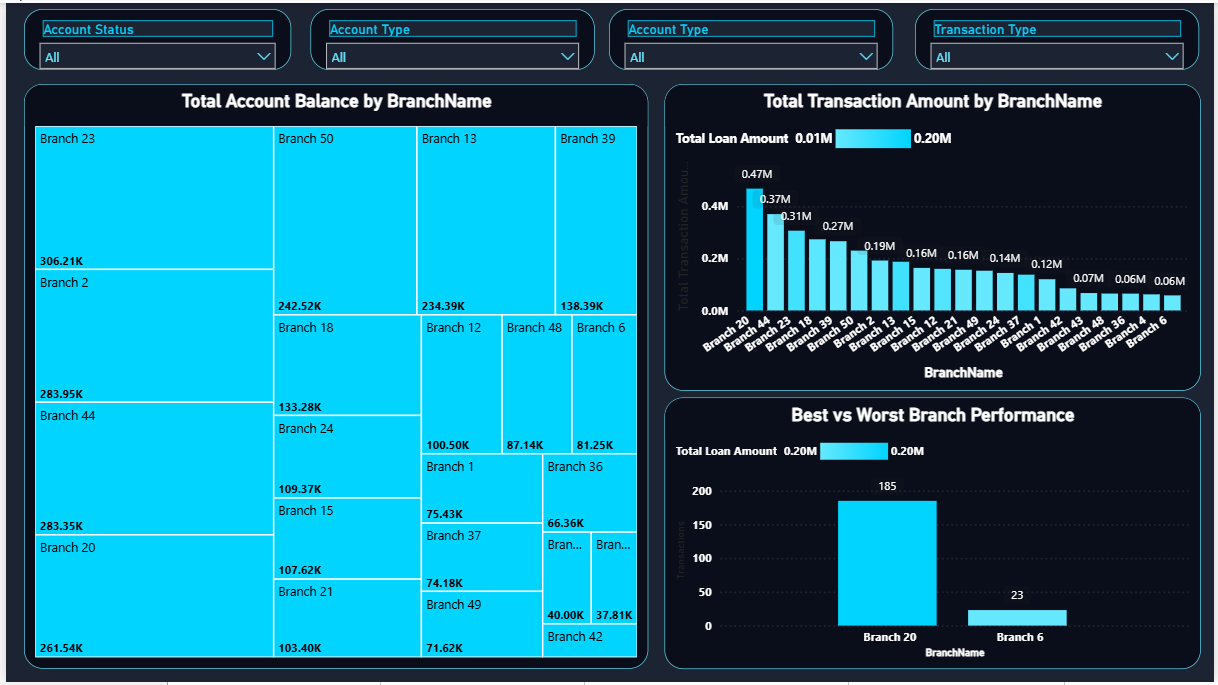

What the dashboard file says about the page in this screenshot:
{"tool":"powerbi","page":{"name":"Branch Performace","canvas":[1280,720],"ordinal":3},"visuals":[{"type":"columnChart","fields":{"Category":["enterpricebankinganalyticsdb branches.BranchName"],"Y":["enterpricebankinganalyticsdb transactions.Total Transaction Amount"]},"box":[697.9,85.8,568.3,325.5],"z":0},{"type":"columnChart","title":"Best vs Worst Branch Performance","fields":{"Category":["enterpricebankinganalyticsdb branches.BranchName"],"Y":["enterpricebankinganalyticsdb transactions.Transactions"]},"box":[697.9,417.8,568.3,288.2],"z":1000},{"type":"treemap","fields":{"Group":["enterpricebankinganalyticsdb branches.BranchName"],"Values":["enterpricebankinganalyticsdb accounts.Total Account Balance"]},"box":[19.4,85.8,662.3,620.2],"z":2000},{"type":"slicer","fields":{"Values":["enterpricebankinganalyticsdb account_statuses.StatusName"]},"box":[19.4,6.5,283.4,64.8],"z":2001},{"type":"slicer","fields":{"Values":["enterpricebankinganalyticsdb account_types.TypeName"]},"box":[322.2,6.5,301.6,64.8],"z":2002},{"type":"slicer","fields":{"Values":["enterpricebankinganalyticsdb account_types.TypeName"]},"box":[639.6,6.5,301.6,64.8],"z":2003},{"type":"slicer","fields":{"Values":["enterpricebankinganalyticsdb transaction_types.TypeName"]},"box":[963.4,6.5,301.6,64.8],"z":2004}]}

Visuals, with their boxes in screenshot pixels (x1, y1, x2, y2), scaled from the page's 1280x720 canvas onto the 1218x685 screenshot:
columnChart - enterpricebankinganalyticsdb branches.BranchName x enterpricebankinganalyticsdb transactions.Total Transaction Amount: bbox=[664, 82, 1205, 391]
"Best vs Worst Branch Performance" columnChart: bbox=[664, 397, 1205, 672]
treemap - enterpricebankinganalyticsdb branches.BranchName x enterpricebankinganalyticsdb accounts.Total Account Balance: bbox=[18, 82, 649, 672]
slicer - enterpricebankinganalyticsdb account_statuses.StatusName: bbox=[18, 6, 288, 68]
slicer - enterpricebankinganalyticsdb account_types.TypeName: bbox=[307, 6, 594, 68]
slicer - enterpricebankinganalyticsdb account_types.TypeName: bbox=[609, 6, 896, 68]
slicer - enterpricebankinganalyticsdb transaction_types.TypeName: bbox=[917, 6, 1204, 68]
